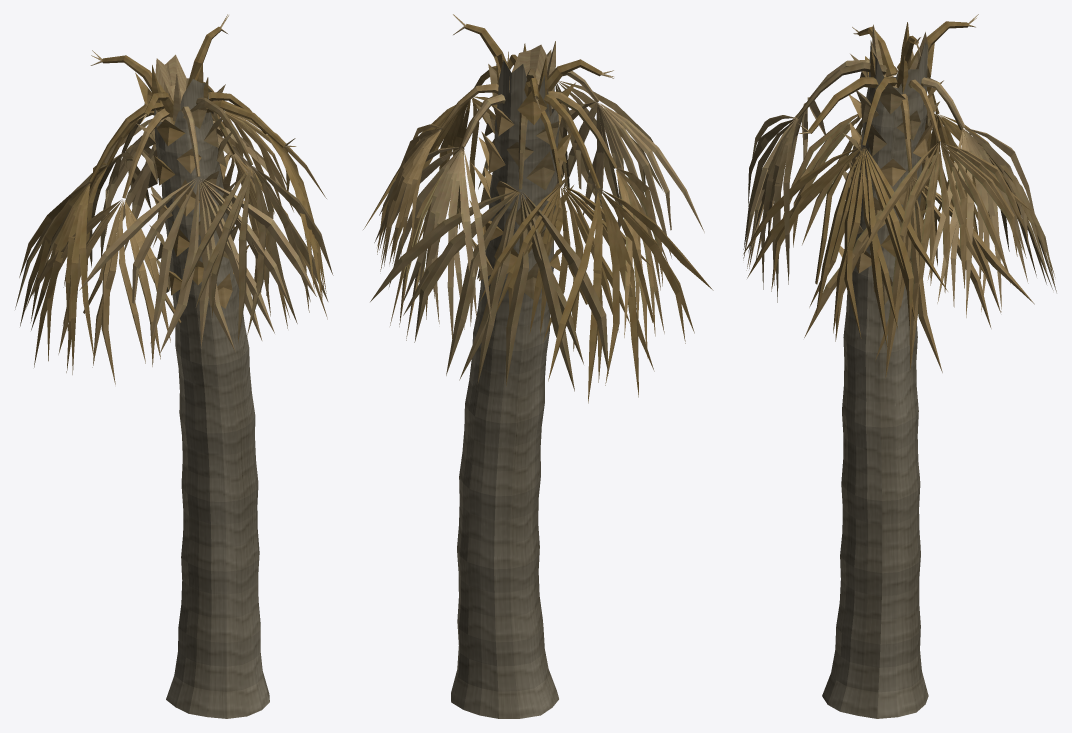
Rendered from palm_fl_dead.glb.
The picture shows the model from 3 angles, left to right: view 1: azimuth 30°, elevation 25°; view 2: azimuth 150°, elevation 25°; view 3: azimuth 270°, elevation 25°; orthographic projection. The views are drawn at different scales.
Parts seen in each view (by area): view 1: Florida_Fan_Palm_Dead; view 2: Florida_Fan_Palm_Dead; view 3: Florida_Fan_Palm_Dead.
Part boxes in pixels (left/top/right/bottom): Florida_Fan_Palm_Dead: left=15, top=14, right=333, bottom=718; Florida_Fan_Palm_Dead: left=363, top=14, right=713, bottom=718; Florida_Fan_Palm_Dead: left=743, top=14, right=1056, bottom=718.
Bounding box in the file's own units: 1.74 × 4.01 × 1.7.
Materials: 1 (1 with a texture image).
